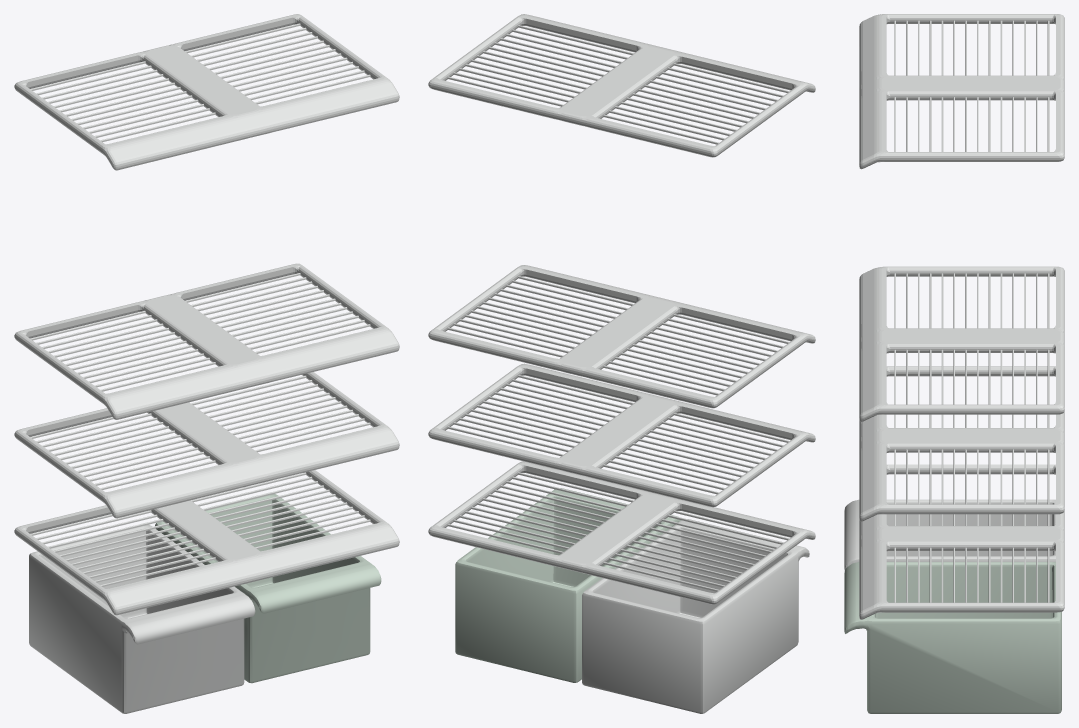
File: RefrigeradorInt.obj
3 renders of one model, left to right at view 1: azimuth 30°, elevation 25°; view 2: azimuth 150°, elevation 25°; view 3: azimuth 270°, elevation 25°, orthographic.
Parts seen in each view (by area): view 1: Cube.000_Cube.004; view 2: Cube.000_Cube.004; view 3: Cube.000_Cube.004.
Part boxes in pixels (left/top/right/bottom): Cube.000_Cube.004: left=14, top=14, right=399, bottom=713; Cube.000_Cube.004: left=428, top=14, right=815, bottom=713; Cube.000_Cube.004: left=844, top=14, right=1064, bottom=713.
Size of the model in its own units: 1.64 by 3.09 by 1.07.
Materials: 2 (2 with a texture image).
